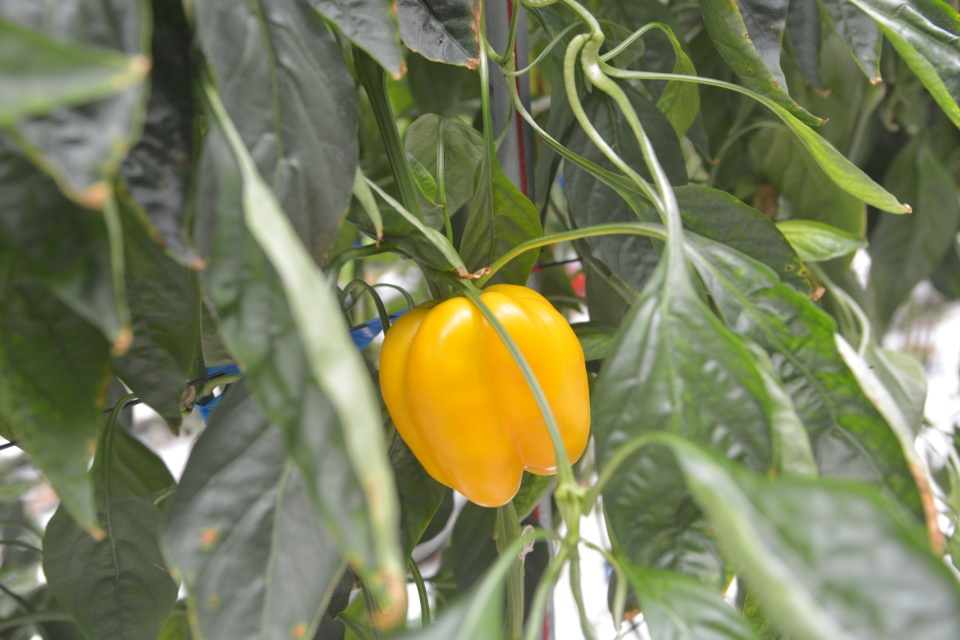fruit: (377, 284, 594, 508)
